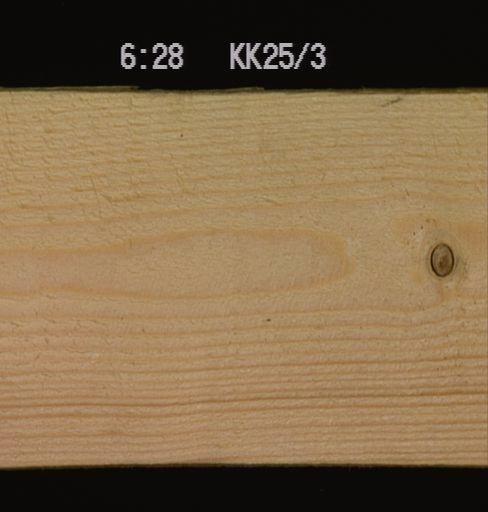dry_knot: (427, 240, 455, 278)
